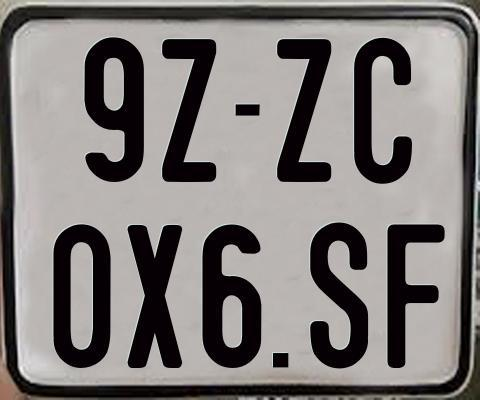0: (53, 222, 115, 368)
6: (202, 224, 268, 368)
9: (83, 35, 144, 184)
C: (352, 35, 412, 187)
F: (387, 224, 445, 374)
S: (309, 221, 372, 374)
X: (127, 224, 184, 367)
Z: (162, 38, 221, 183), (276, 37, 333, 183)
